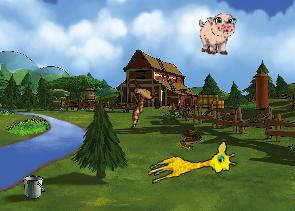eagle: (118, 73, 165, 128)
giraffe: (144, 138, 239, 195)
pig: (197, 12, 237, 56)
